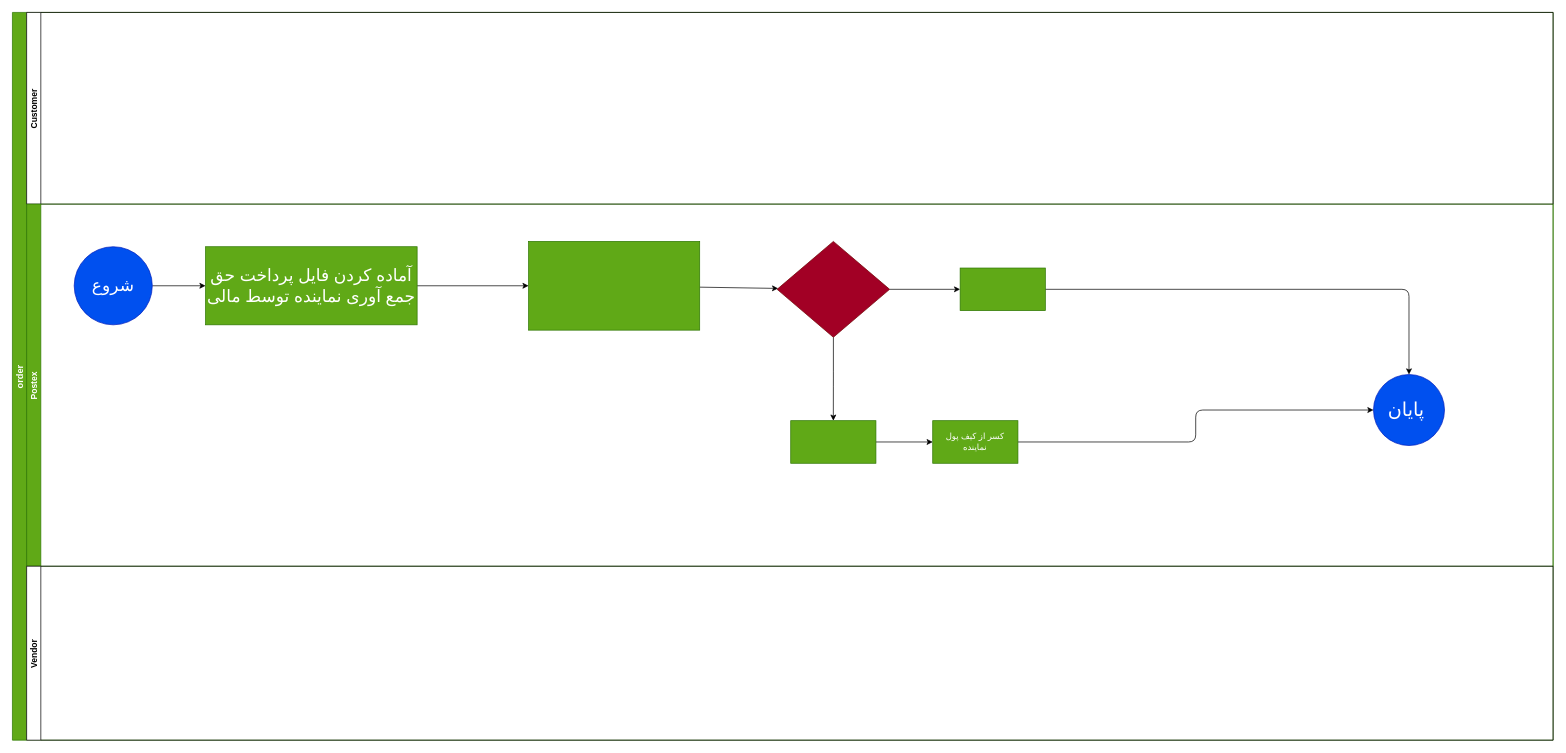
This 1566x753 diagram has some shape labels left out. Each missing label, with the centre of its shape:
"جمع آوری فرم های غرامت و مفقودی توسط مالی" goes at point 614,285.
"خسارتی باید توسط نماینده پرداخت شود" goes at point 833,289.
"وارد کردن مبالغ کسورات در اکسل" goes at point 833,441.
"پرداخت حق جمع آوری کامل به نماینده" goes at point 1002,289.
